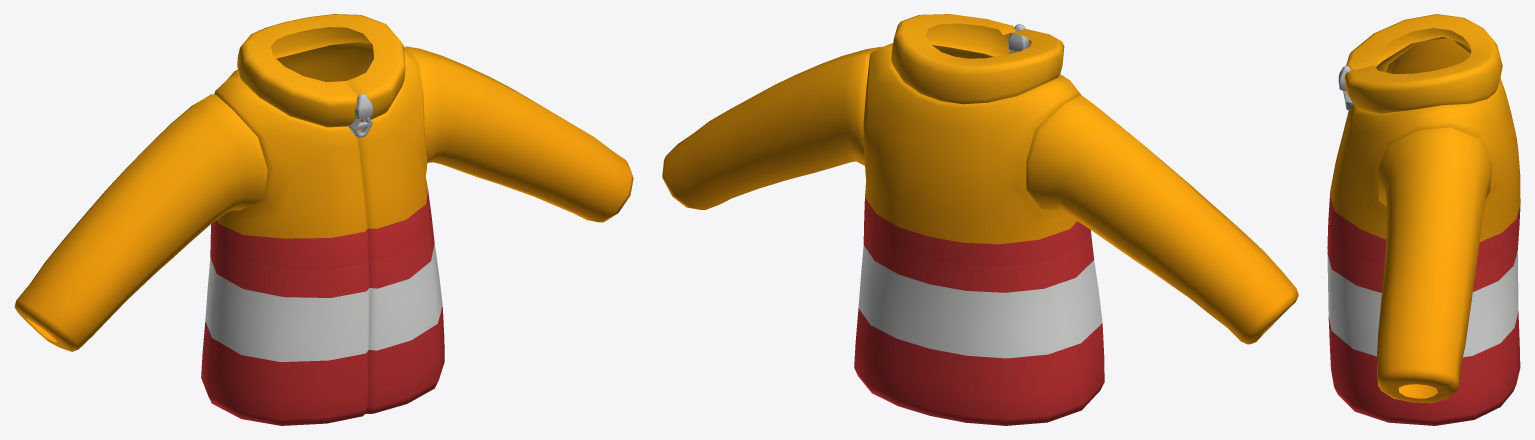
The model's file is outwear_029.glb.
3 renders of one model, left to right at view 1: azimuth 30°, elevation 25°; view 2: azimuth 150°, elevation 25°; view 3: azimuth 270°, elevation 25°, orthographic. The views are drawn at different scales.
Parts seen in each view (by area): view 1: Outerwear_029; view 2: Outerwear_029; view 3: Outerwear_029.
Boxes of the visible parts, <box> form: Outerwear_029: <box>14,14,633,425</box>; Outerwear_029: <box>662,14,1298,425</box>; Outerwear_029: <box>1327,14,1520,425</box>.
Size of the model in its own units: 1.26 by 0.6865 by 0.3592.
Materials: 1 (1 with a texture image).
